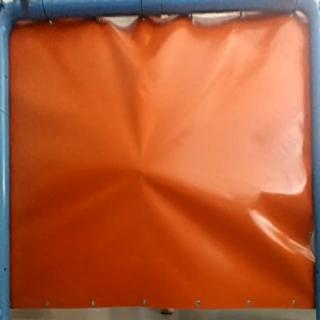Hit-hRxx: (133, 162, 146, 175)
